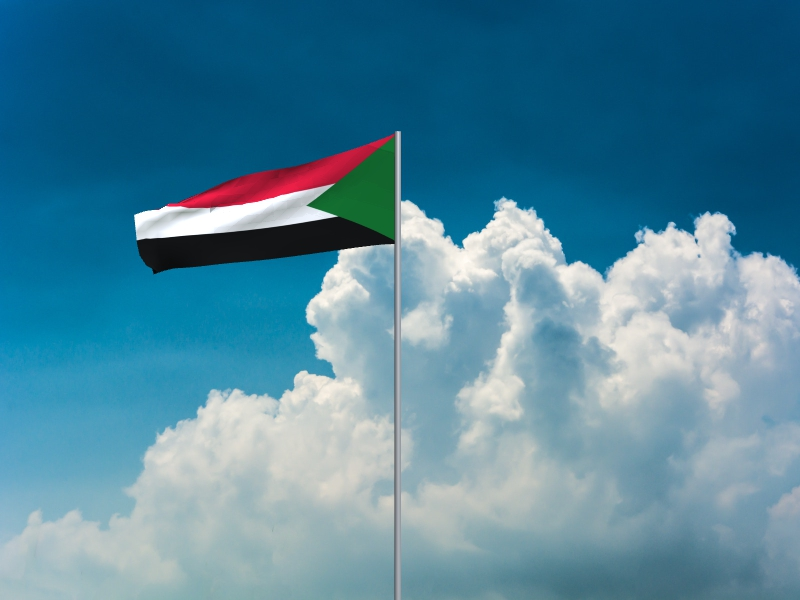sd: (134, 134, 395, 276)
